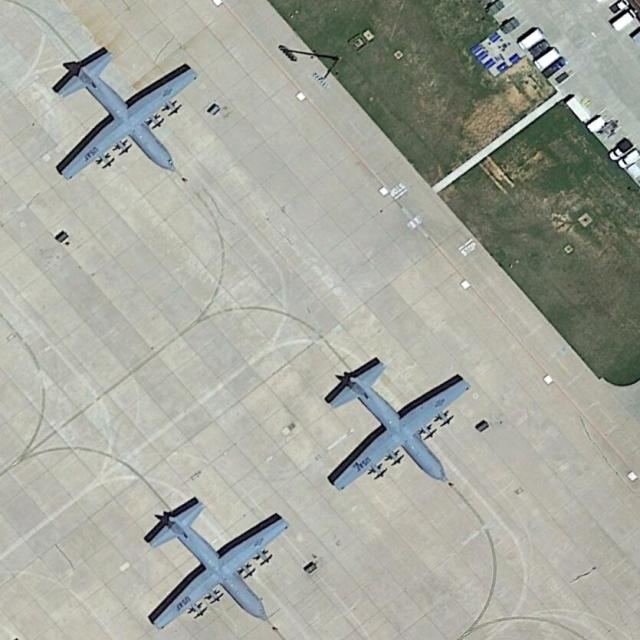fighter jet: (324, 350, 471, 496), (140, 499, 292, 631), (51, 48, 195, 174)
